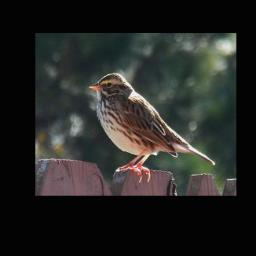Sparrow: (86, 71, 215, 181)
